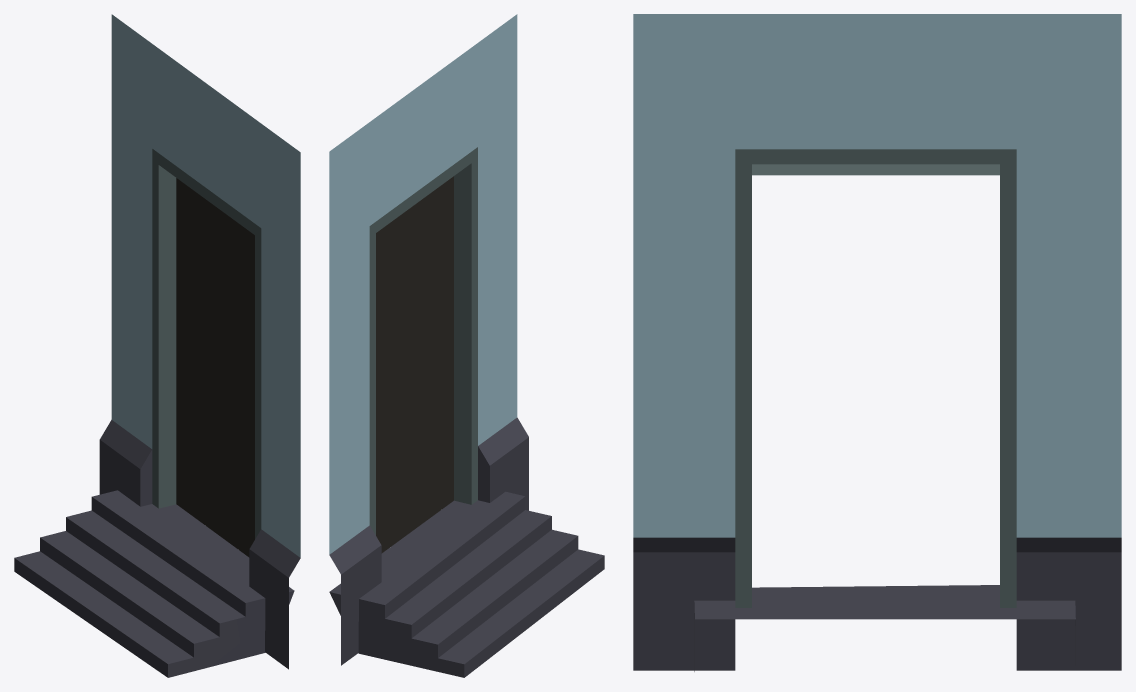
Rendered from B1_wall_bottom_stairs_door.FBX.
The picture shows the model from 3 angles, left to right: view 1: azimuth 30°, elevation 25°; view 2: azimuth 150°, elevation 25°; view 3: azimuth 270°, elevation 25°; orthographic projection. The views are drawn at different scales.
Visible parts, largest first — view 1: B1_wall_bottom_door003, StraightStair001; view 2: B1_wall_bottom_door003, StraightStair001; view 3: B1_wall_bottom_door003, StraightStair001.
Part boxes in pixels (x1,y1,x2,y2): B1_wall_bottom_door003: (99,14,300,669); StraightStair001: (14,490,294,677); B1_wall_bottom_door003: (329,14,528,665); StraightStair001: (329,491,604,677); B1_wall_bottom_door003: (633,14,1121,670); StraightStair001: (694,585,1075,671).
Bounding box in the file's own units: 82.03 × 300 × 200.
